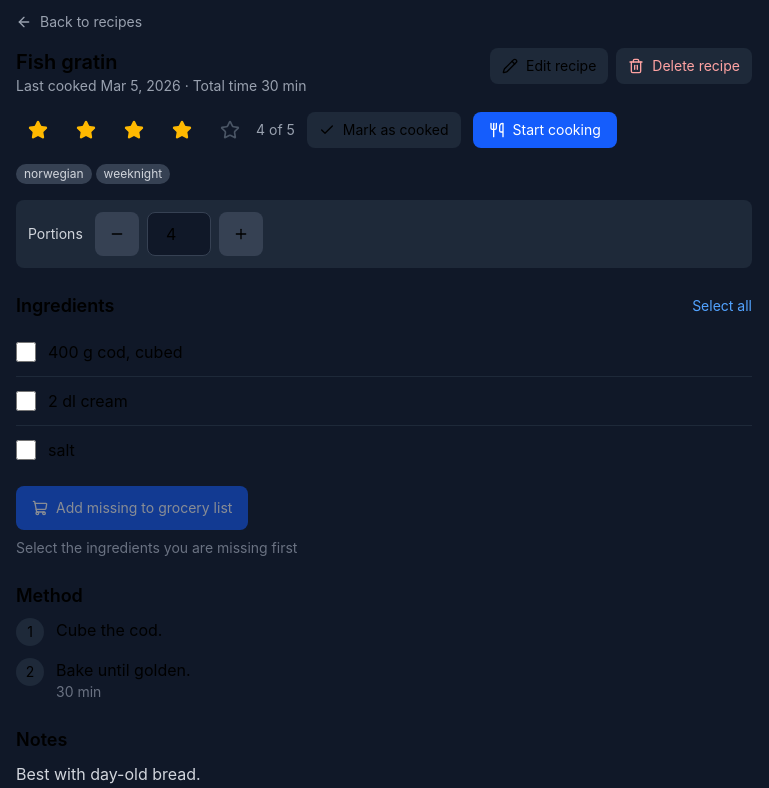
Test: RecipeDetail › steps portions with the plus and minus buttons and resets to the base yield
The width and height of the screenshot is (769, 788).
Expected: the heading "Fish gratin" is shown, top-left (16, 50), bottom-right (118, 74)
Click the button named "One more portion" at (241, 234), box top-left (219, 212), bottom-right (263, 256)
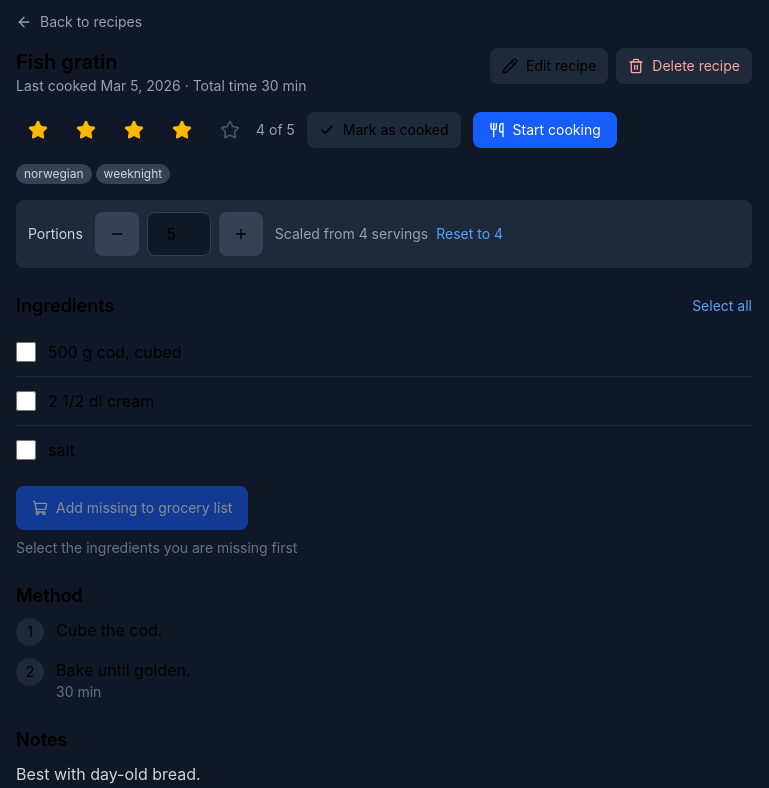
Expected: the text "500 g cod, cubed" is shown, top-left (48, 340), bottom-right (182, 364)
Click the button named "One fewer portion" at (117, 234), box top-left (95, 212), bottom-right (139, 256)
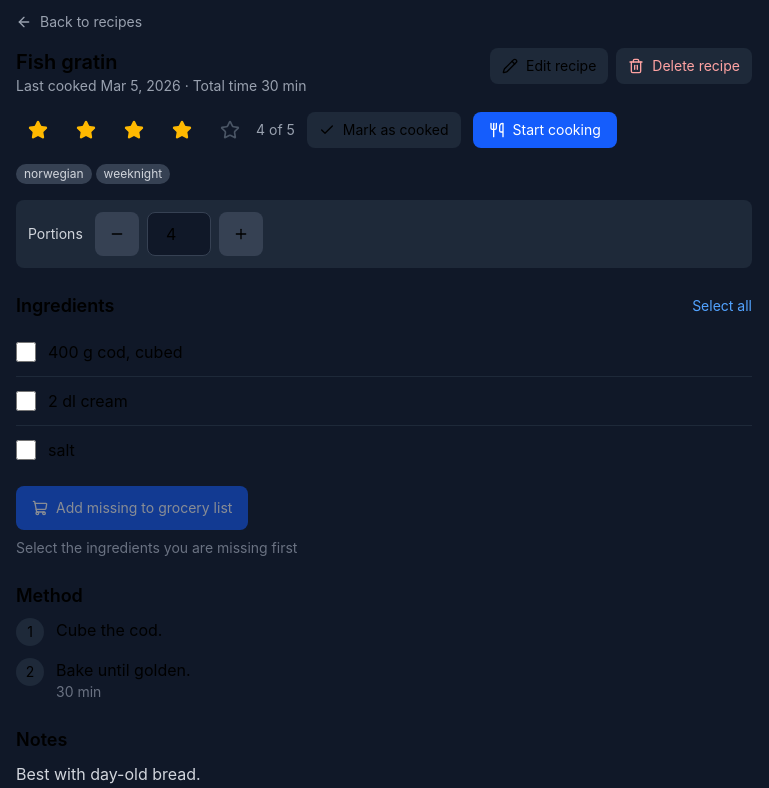
Expected: the text "400 g cod, cubed" is shown, top-left (48, 340), bottom-right (182, 364)
Replace the text in the number field named "Portions" with "8" at (179, 234), box top-left (147, 212), bottom-right (211, 256)
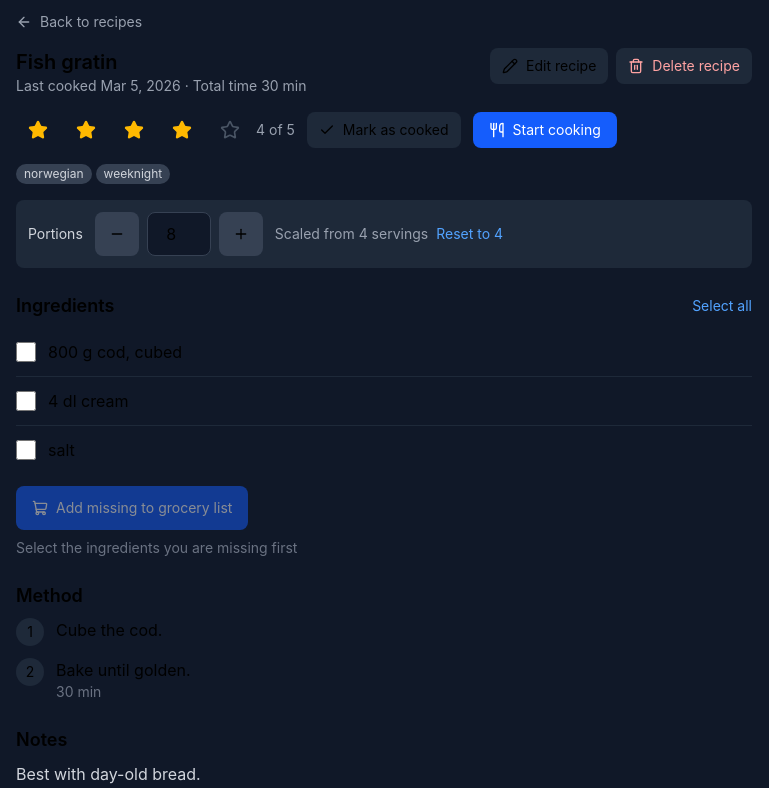
Click the button "Reset to 4" at (470, 234), box top-left (436, 224), bottom-right (503, 244)
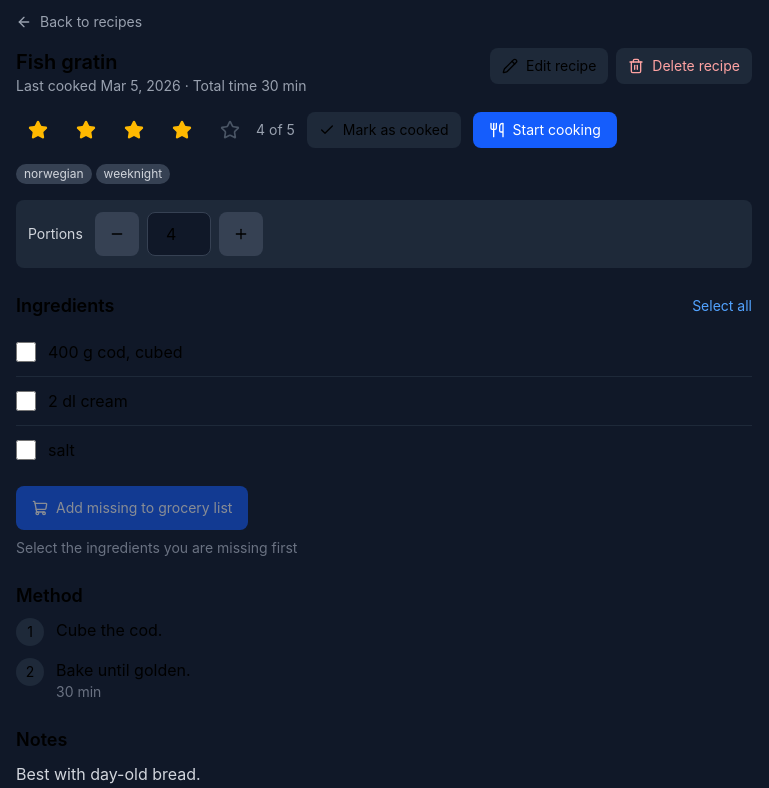
Expected: the text "400 g cod, cubed" is shown, top-left (48, 340), bottom-right (182, 364)
